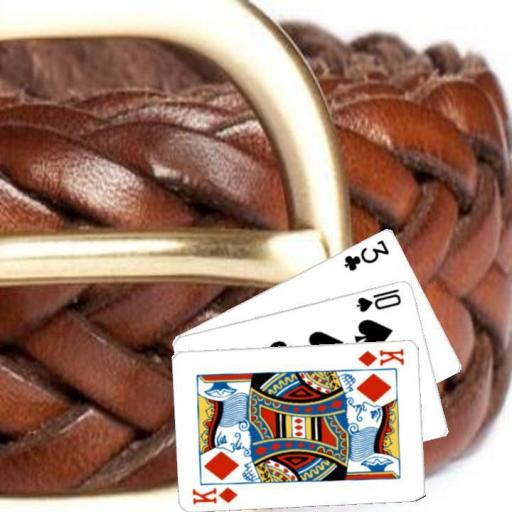card-corner: (341, 236, 391, 272), (353, 285, 403, 314), (355, 346, 406, 368), (190, 484, 239, 506)
